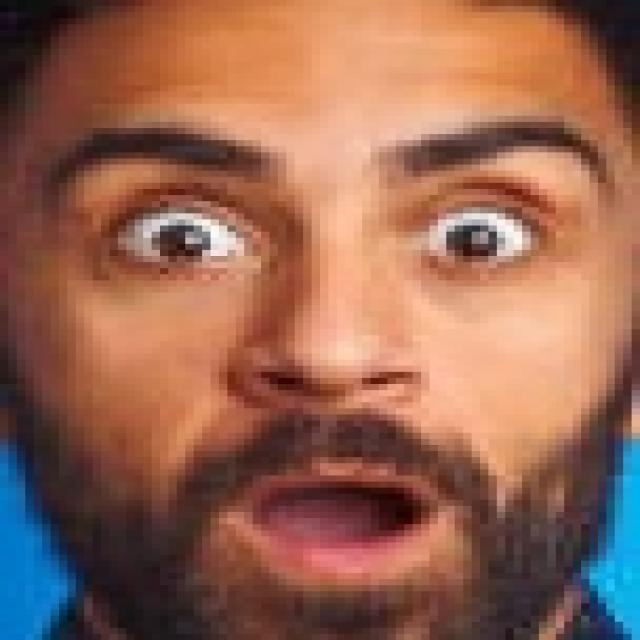Anxiety: (0, 0, 632, 634)
